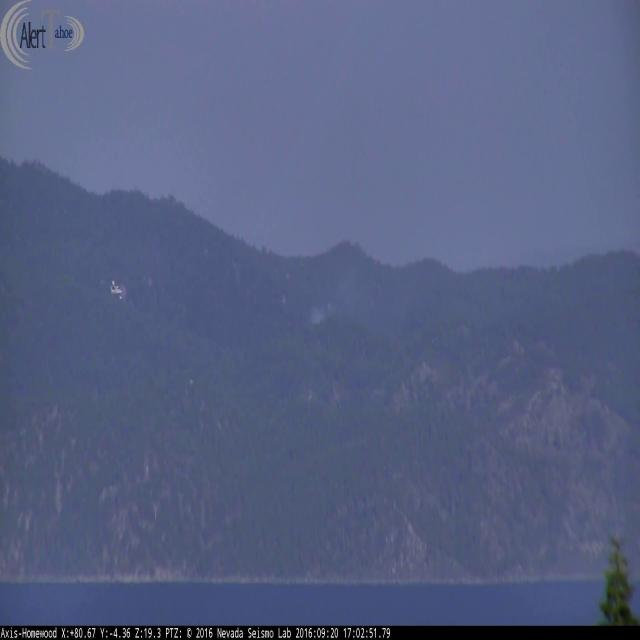smoke: (308, 256, 425, 324)
